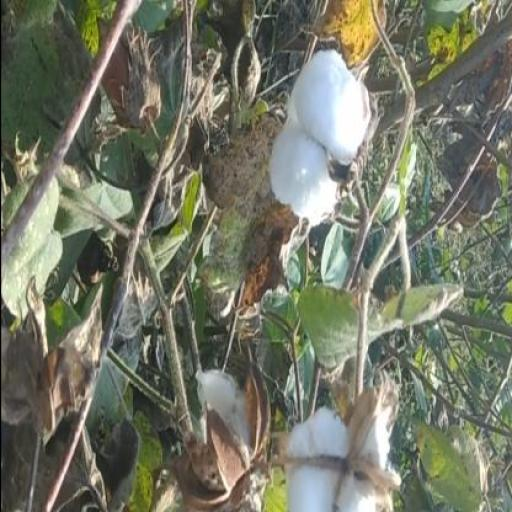cotton_ready: (255, 44, 391, 230)
